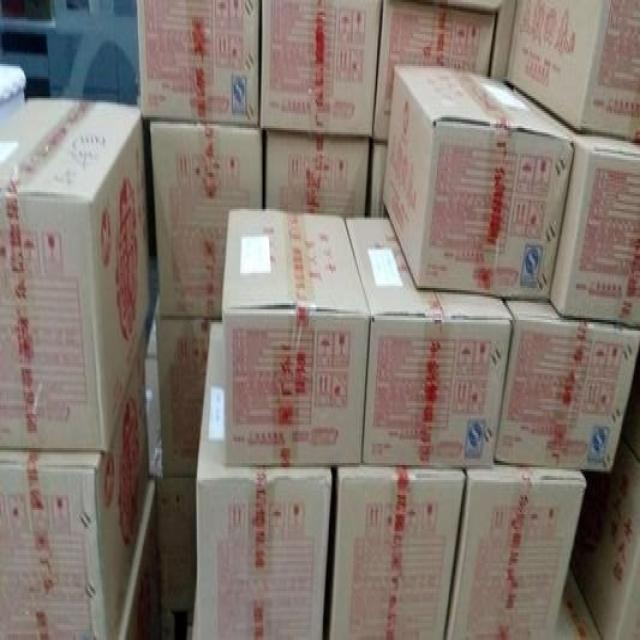box: (0, 98, 150, 454), (382, 64, 576, 303), (0, 335, 150, 640), (192, 320, 333, 640), (343, 218, 514, 469), (221, 209, 371, 467), (507, 79, 640, 326), (445, 461, 587, 640), (322, 465, 466, 640), (495, 299, 640, 471), (150, 122, 263, 320), (507, 0, 640, 141), (373, 0, 497, 143), (258, 0, 382, 139), (136, 0, 261, 126), (570, 435, 640, 640), (155, 294, 210, 478), (262, 128, 370, 218), (118, 476, 165, 640), (150, 437, 196, 595), (488, 0, 518, 79), (367, 139, 389, 218)
